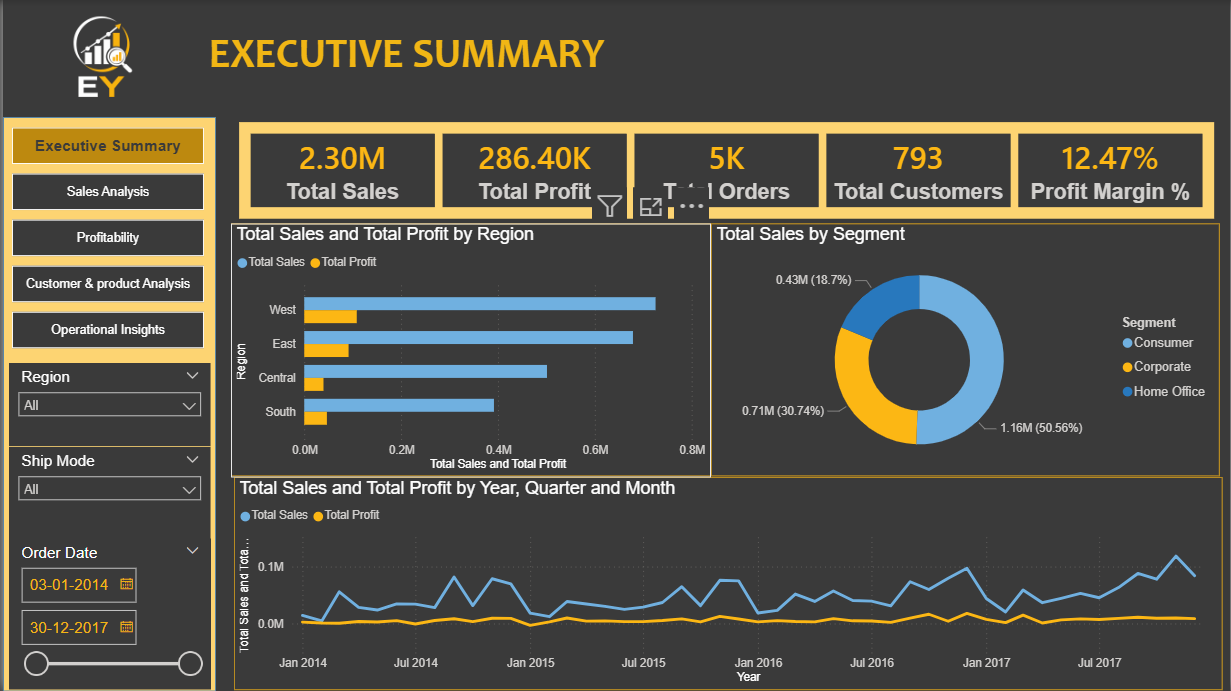

The dashboard page shown, as its layout file describes it:
{"tool":"powerbi","page":{"name":"Executive Summary","canvas":[1280,720],"ordinal":0},"visuals":[{"type":"textbox","box":[210,23.3,1058.3,98.3],"z":0},{"type":"shape","box":[0,121.9,221.9,598.6],"z":1000},{"type":"cardVisual","fields":{"Data":["Data.Total Sales","Data.Total Profit","Data.Total Orders","Customer.Total Customers","Data.Profit Margin %"]},"box":[240,121.7,1030,111.7],"z":2000},{"type":"image","box":[0,0,200.1,121.9],"z":3000},{"type":"lineChart","fields":{"Y":["Data.Total Sales","Data.Total Profit"],"Category":["Data.Order Date.Variation.Date Hierarchy.Year","Data.Order Date.Variation.Date Hierarchy.Quarter","Data.Order Date.Variation.Date Hierarchy.Month","Data.Order Date.Variation.Date Hierarchy.Day"]},"box":[240,496.7,1030,221.7],"z":4000},{"type":"clusteredBarChart","fields":{"Category":["Location.Region"],"Y":["Data.Total Sales","Data.Total Profit"]},"box":[238.3,233.3,500,263.3],"z":5000},{"type":"donutChart","fields":{"Category":["Segment.Segment"],"Y":["Data.Total Sales"]},"box":[738.3,233.3,530,263.3],"z":6000},{"type":"pageNavigator","box":[10,133.3,200,231.7],"z":7000},{"type":"slicer","fields":{"Values":["Location.Region"]},"box":[6.7,378.3,210,86.7],"z":8000},{"type":"slicer","fields":{"Values":["ShipMode.Ship Mode"]},"box":[6.7,465,210,96.7],"z":9000},{"type":"slicer","fields":{"Values":["Data.Order Date"]},"box":[6.7,561.7,210,156.7],"z":10000}]}

Visuals, with their boxes in screenshot pixels (x1, y1, x2, y2), scaled from the page's 1280x720 canvas onto the 1231x691 screenshot:
textbox: {"x1": 202, "y1": 22, "x2": 1220, "y2": 117}
shape: {"x1": 0, "y1": 117, "x2": 213, "y2": 690}
cardVisual - Data.Total Sales x Data.Total Profit: {"x1": 231, "y1": 117, "x2": 1221, "y2": 224}
image: {"x1": 0, "y1": 0, "x2": 192, "y2": 117}
lineChart - Data.Total Sales x Data.Total Profit: {"x1": 231, "y1": 477, "x2": 1221, "y2": 689}
clusteredBarChart - Location.Region x Data.Total Sales: {"x1": 229, "y1": 224, "x2": 710, "y2": 477}
donutChart - Segment.Segment x Data.Total Sales: {"x1": 710, "y1": 224, "x2": 1220, "y2": 477}
pageNavigator: {"x1": 10, "y1": 128, "x2": 202, "y2": 350}
slicer - Location.Region: {"x1": 6, "y1": 363, "x2": 208, "y2": 446}
slicer - ShipMode.Ship Mode: {"x1": 6, "y1": 446, "x2": 208, "y2": 539}
slicer - Data.Order Date: {"x1": 6, "y1": 539, "x2": 208, "y2": 689}
